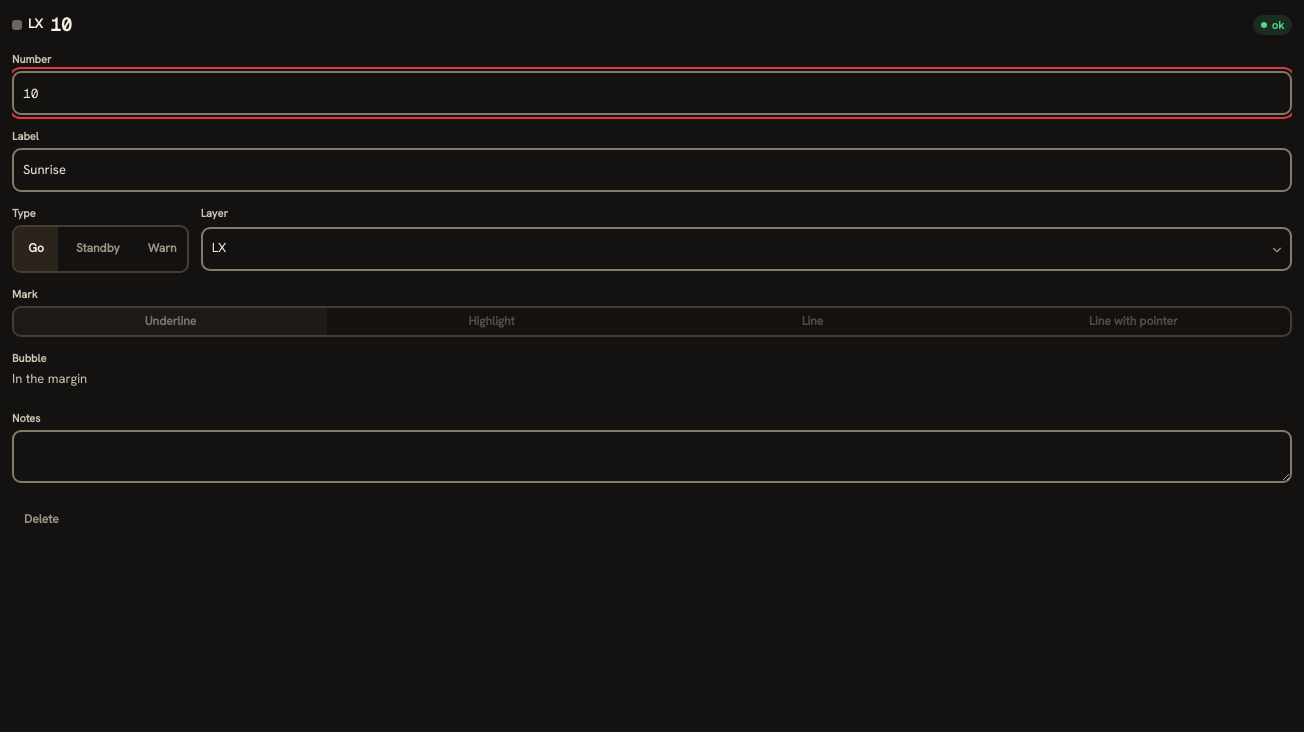
Test: Escape in the Number field clears a stale error as it restores the stored value
Replace the text in the field labelled "Number" with "ten" at [652, 93], box [12,71,1292,115]
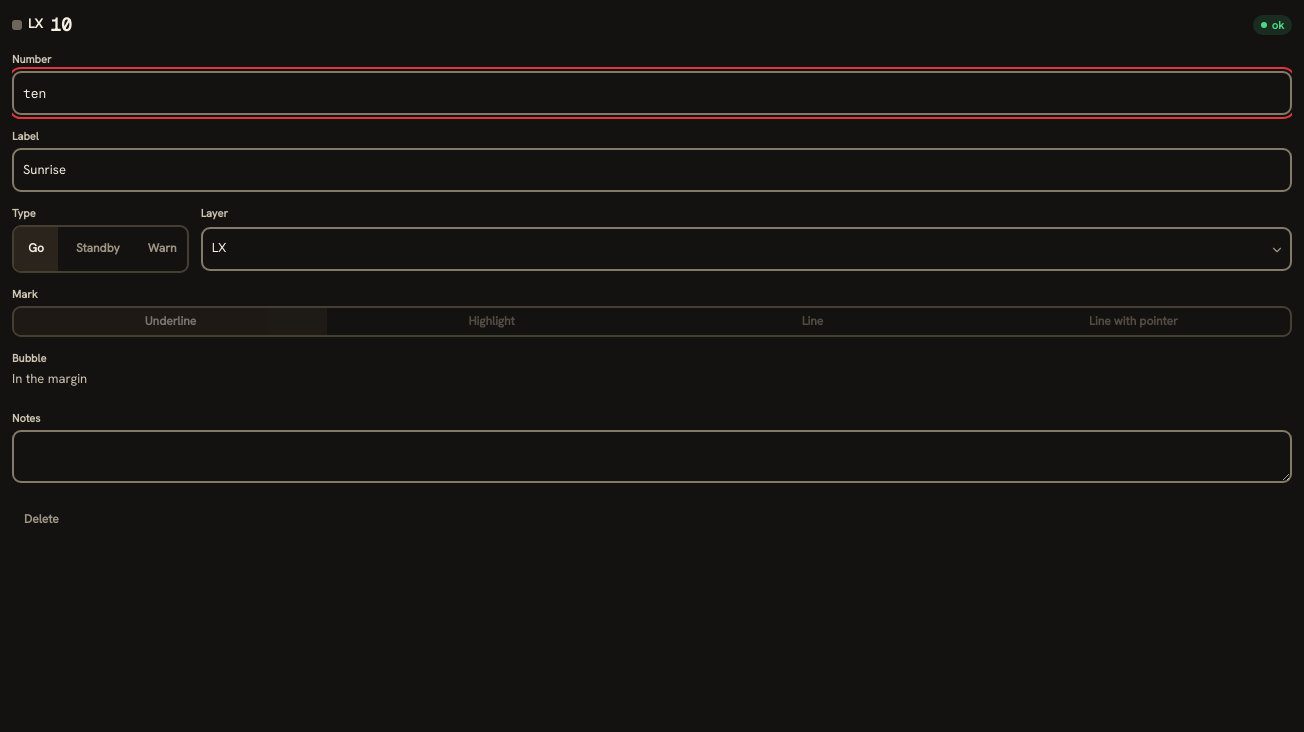
Leave the field labelled "Number", box [12,71,1292,115]
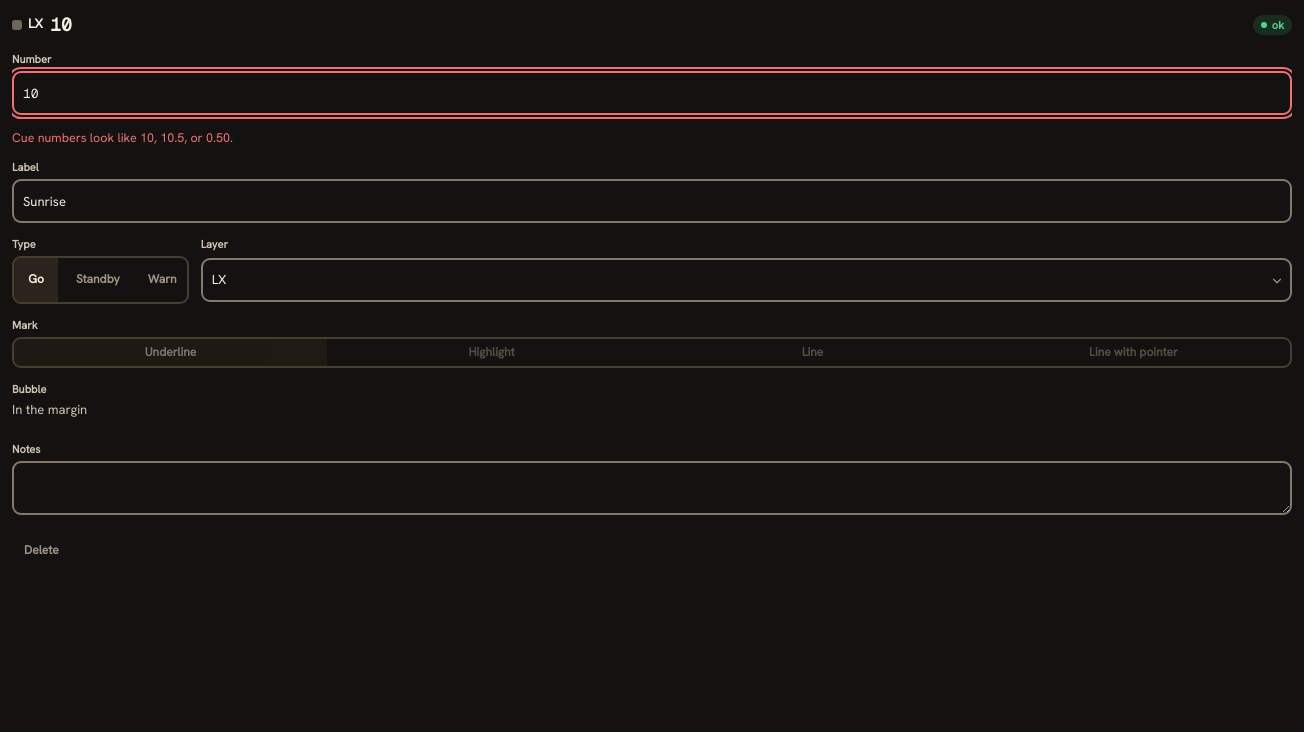
Check: the message shows "Cue numbers look like", box [12,129,233,146]
Press Escape in the field labelled "Number", box [12,71,1292,115]
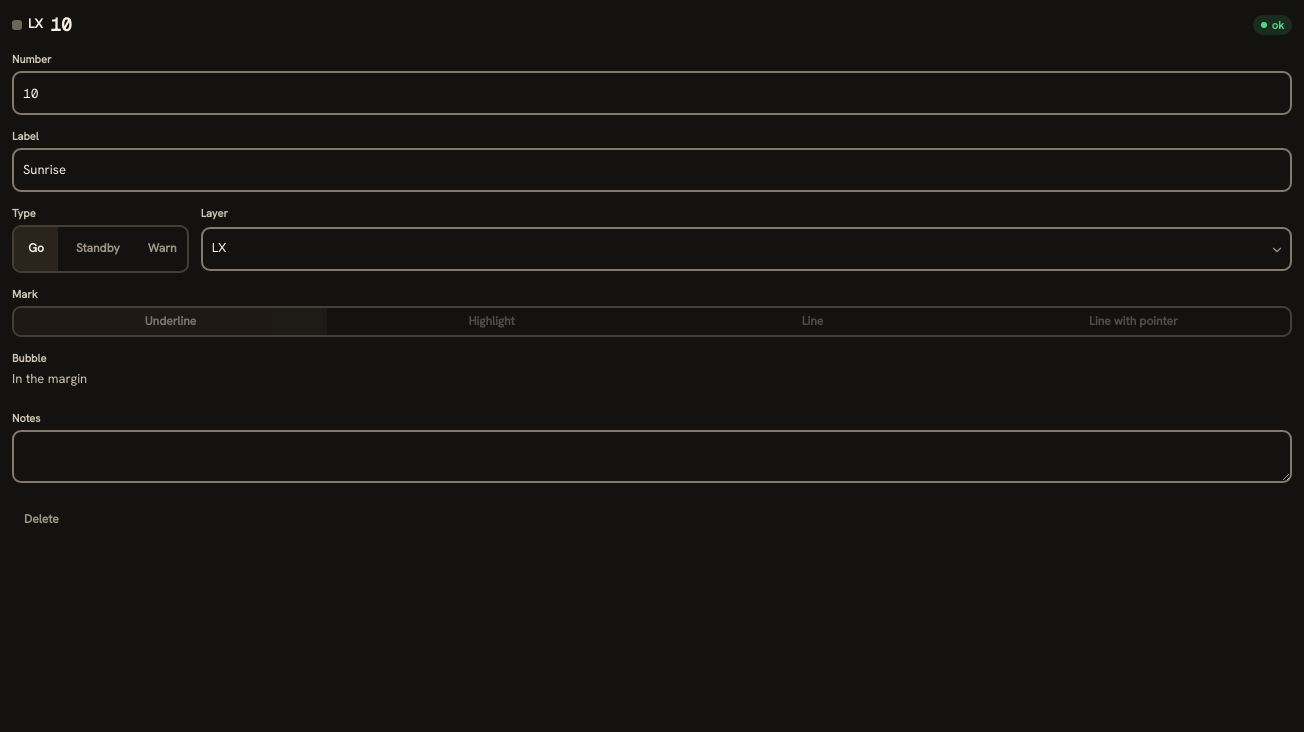
Check: the field labelled "Number" holds "10", box [12,71,1292,115]
Check: the message "Cue numbers look like 10, 10.5, or 0.50." is gone
